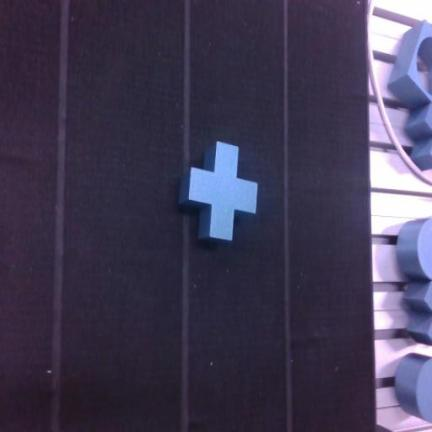cross: (180, 142, 257, 240)
